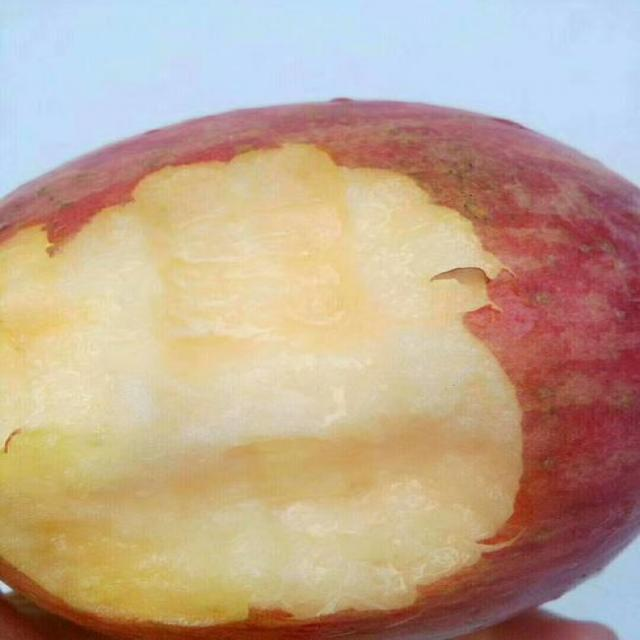Apple: (2, 95, 640, 640)
